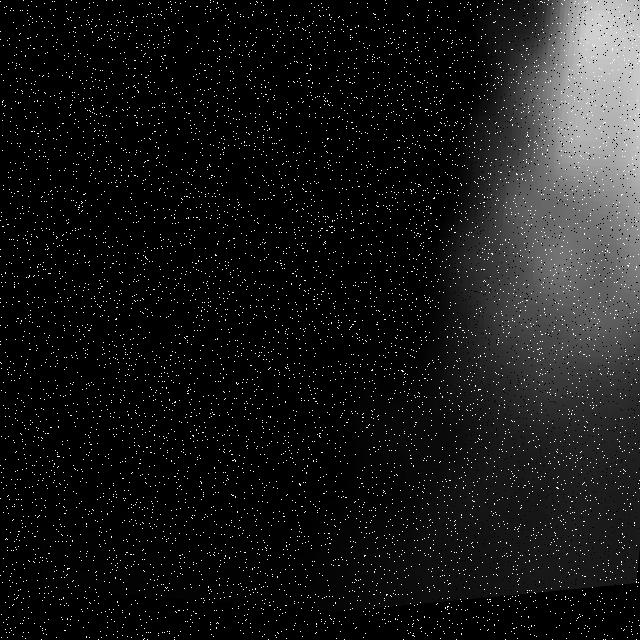person: (415, 1, 640, 415)
